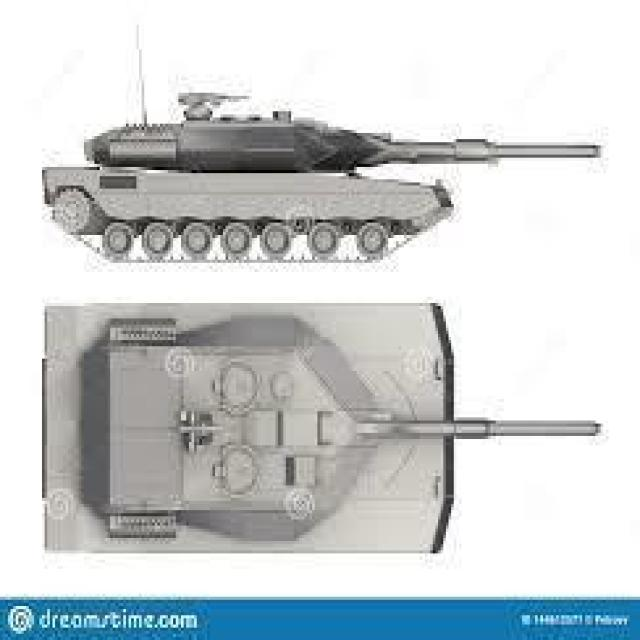Tanks: (36, 296, 573, 560), (43, 84, 594, 278)
